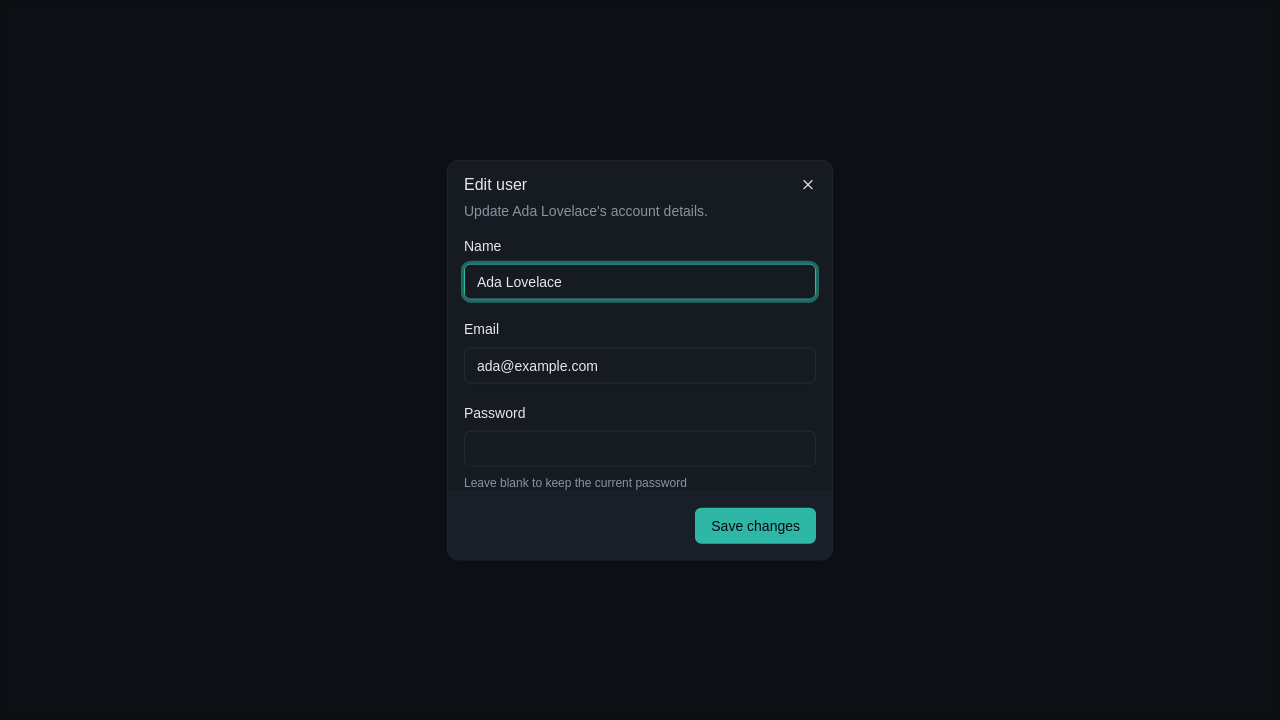
EditUserDialog › disables the submit button and shows a pending label while saving
Step 1. Click the button "Save changes" → (756, 525), box [695, 507, 816, 543]
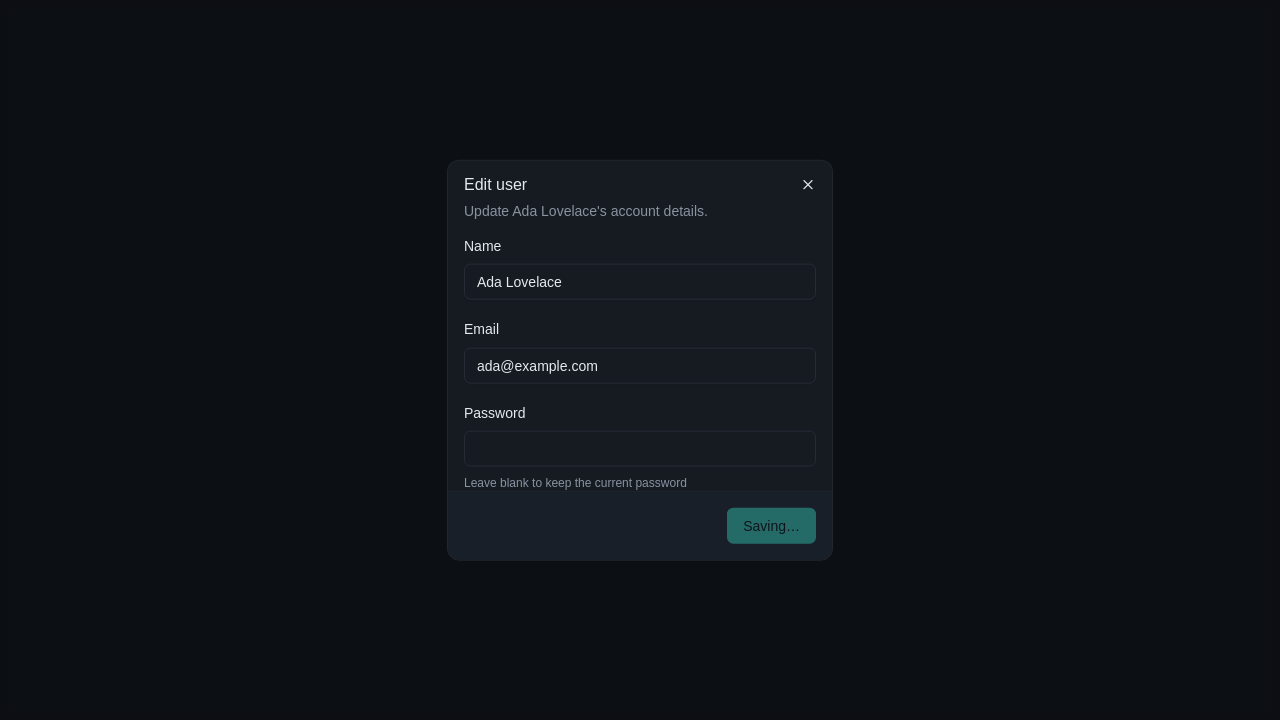
Now the button "Saving…" is disabled, box [727, 507, 816, 543]
